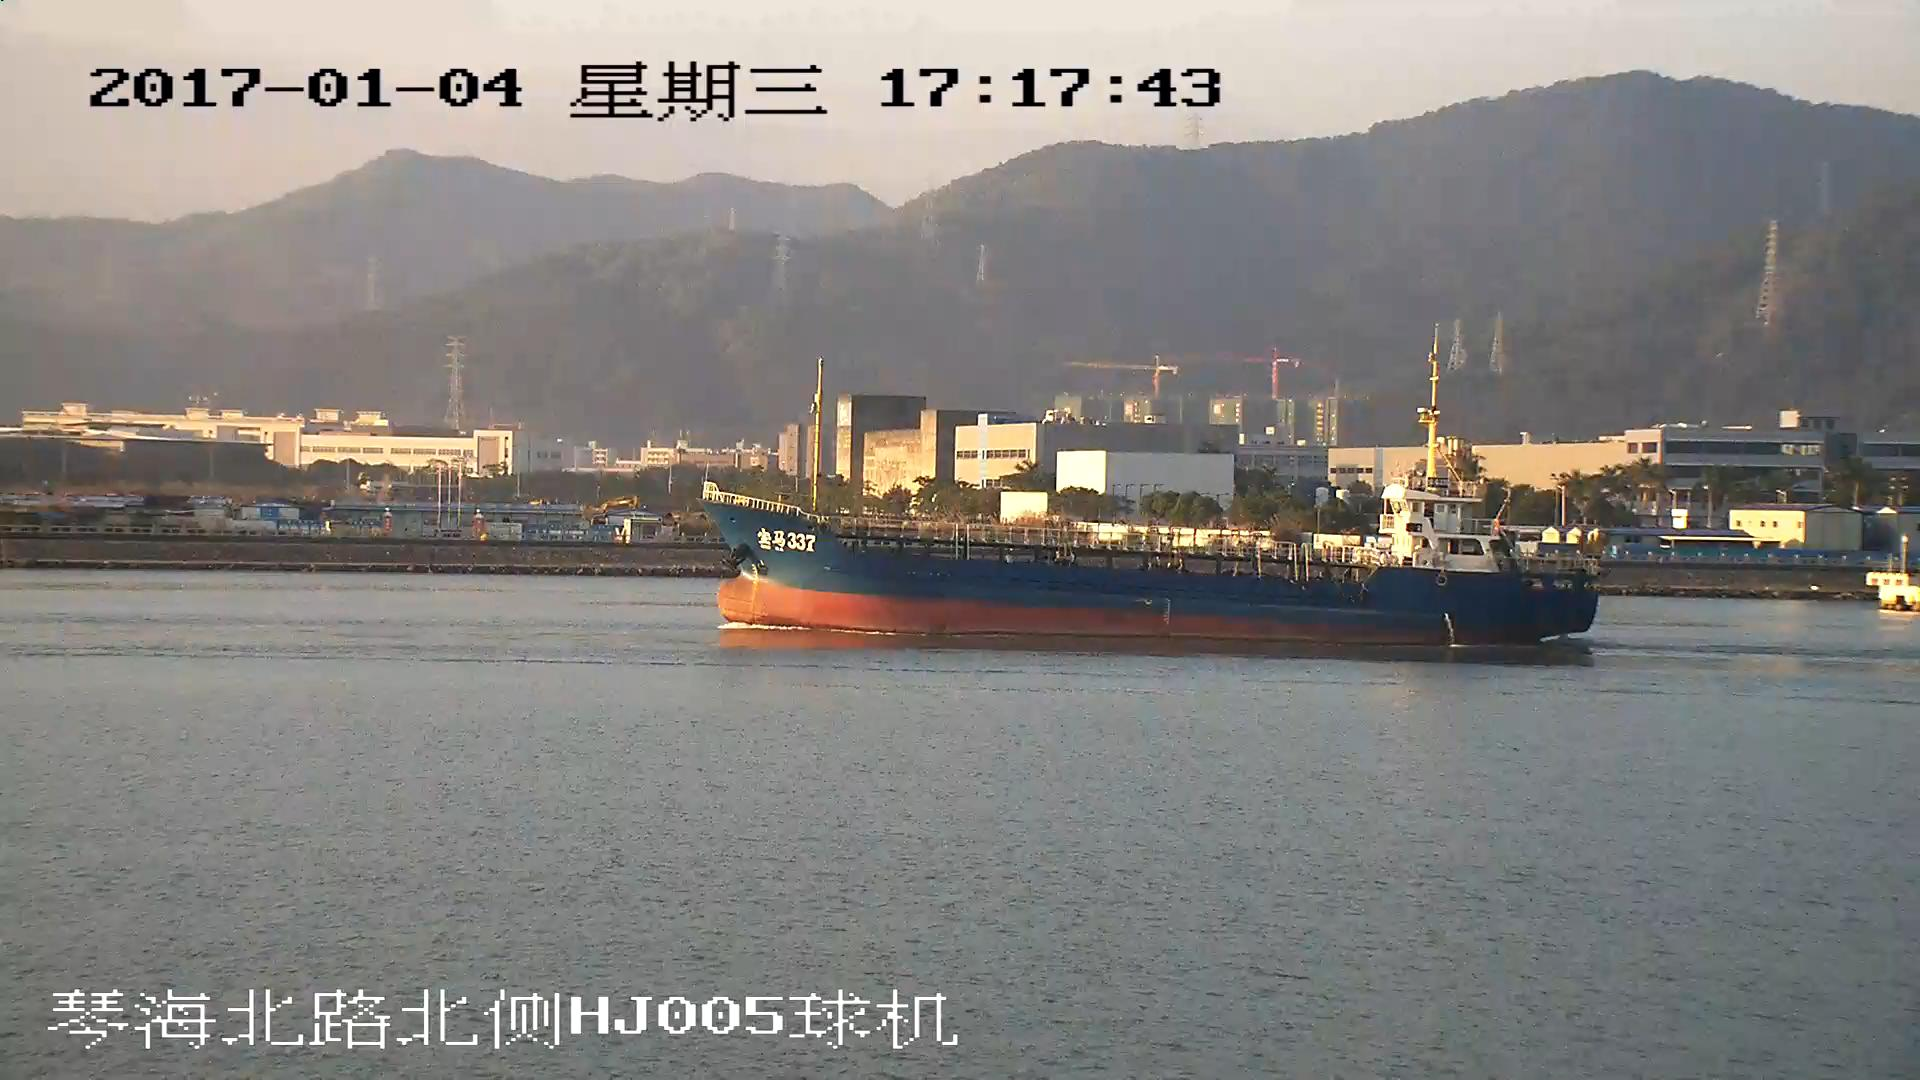general cargo ship: (699, 329, 1604, 649)
